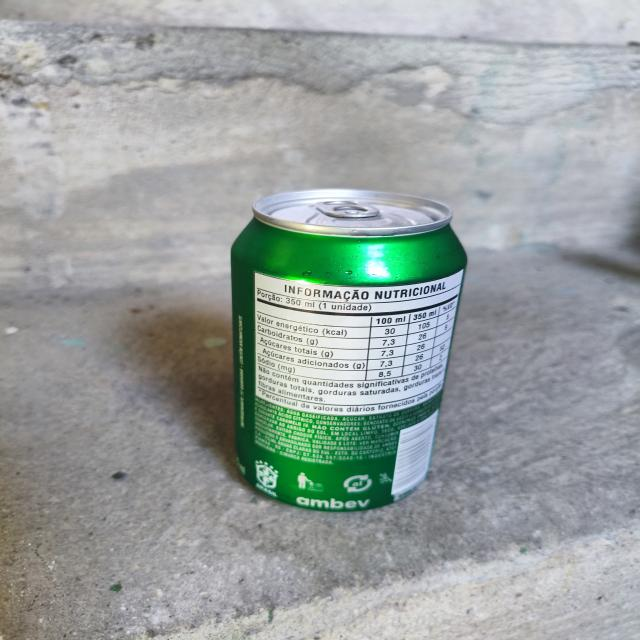Guarana: (207, 176, 477, 515)
